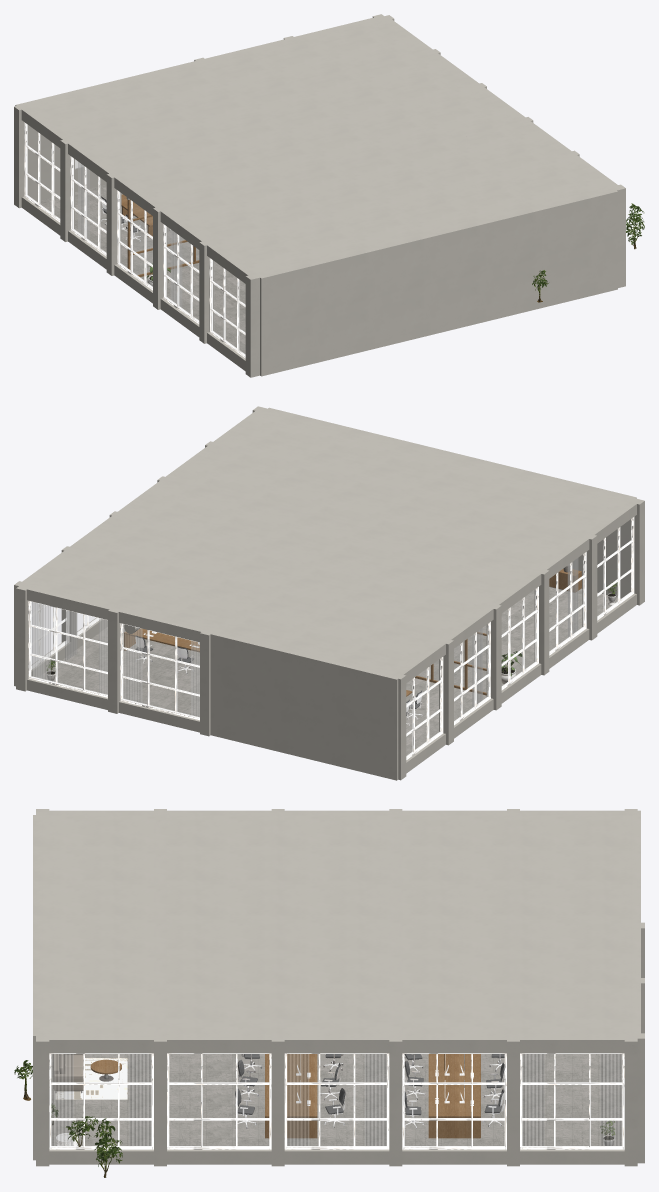
Rendered from bureau.glb.
The picture shows the model from 3 angles, top to bottom: view 1: azimuth 30°, elevation 25°; view 2: azimuth 150°, elevation 25°; view 3: azimuth 270°, elevation 25°; orthographic projection. The views are drawn at different scales.
Visible parts, largest first — view 1: Plaster, Floor, Frame, Curtain, Oak, Plantes; view 2: Plaster, Floor, Frame, Curtain, Oak, Plantes, Window; view 3: Plaster, Floor, Curtain, Frame, Oak, Plantes, Fabric, Rug, Black, Linen, Chrome.
Part boxes in pixels (bbox=[...]): Plaster: bbox=[14, 14, 625, 377]; Floor: bbox=[37, 184, 245, 353]; Frame: bbox=[24, 122, 245, 358]; Curtain: bbox=[78, 161, 214, 330]; Oak: bbox=[121, 194, 199, 276]; Plantes: bbox=[146, 203, 644, 302]; Plaster: bbox=[14, 406, 644, 780]; Floor: bbox=[39, 587, 621, 755]; Frame: bbox=[28, 517, 634, 759]; Curtain: bbox=[32, 558, 578, 716]; Oak: bbox=[124, 569, 581, 696]; Plantes: bbox=[46, 564, 617, 684]; Window: bbox=[31, 602, 97, 666]; Plaster: bbox=[33, 809, 644, 1166]; Floor: bbox=[51, 1054, 622, 1145]; Curtain: bbox=[51, 1054, 621, 1145]; Frame: bbox=[49, 1053, 624, 1149]; Oak: bbox=[90, 1054, 480, 1138]; Plantes: bbox=[14, 1060, 615, 1177]; Fabric: bbox=[235, 1054, 504, 1115]; Rug: bbox=[55, 1058, 127, 1099]; Black: bbox=[55, 1054, 504, 1128]; Linen: bbox=[53, 1054, 83, 1091]; Chrome: bbox=[237, 1058, 504, 1126].
Size of what is drawn, in the model's own units: 18.95 by 4.2 by 19.3.
Materials: 25 (14 with a texture image).
